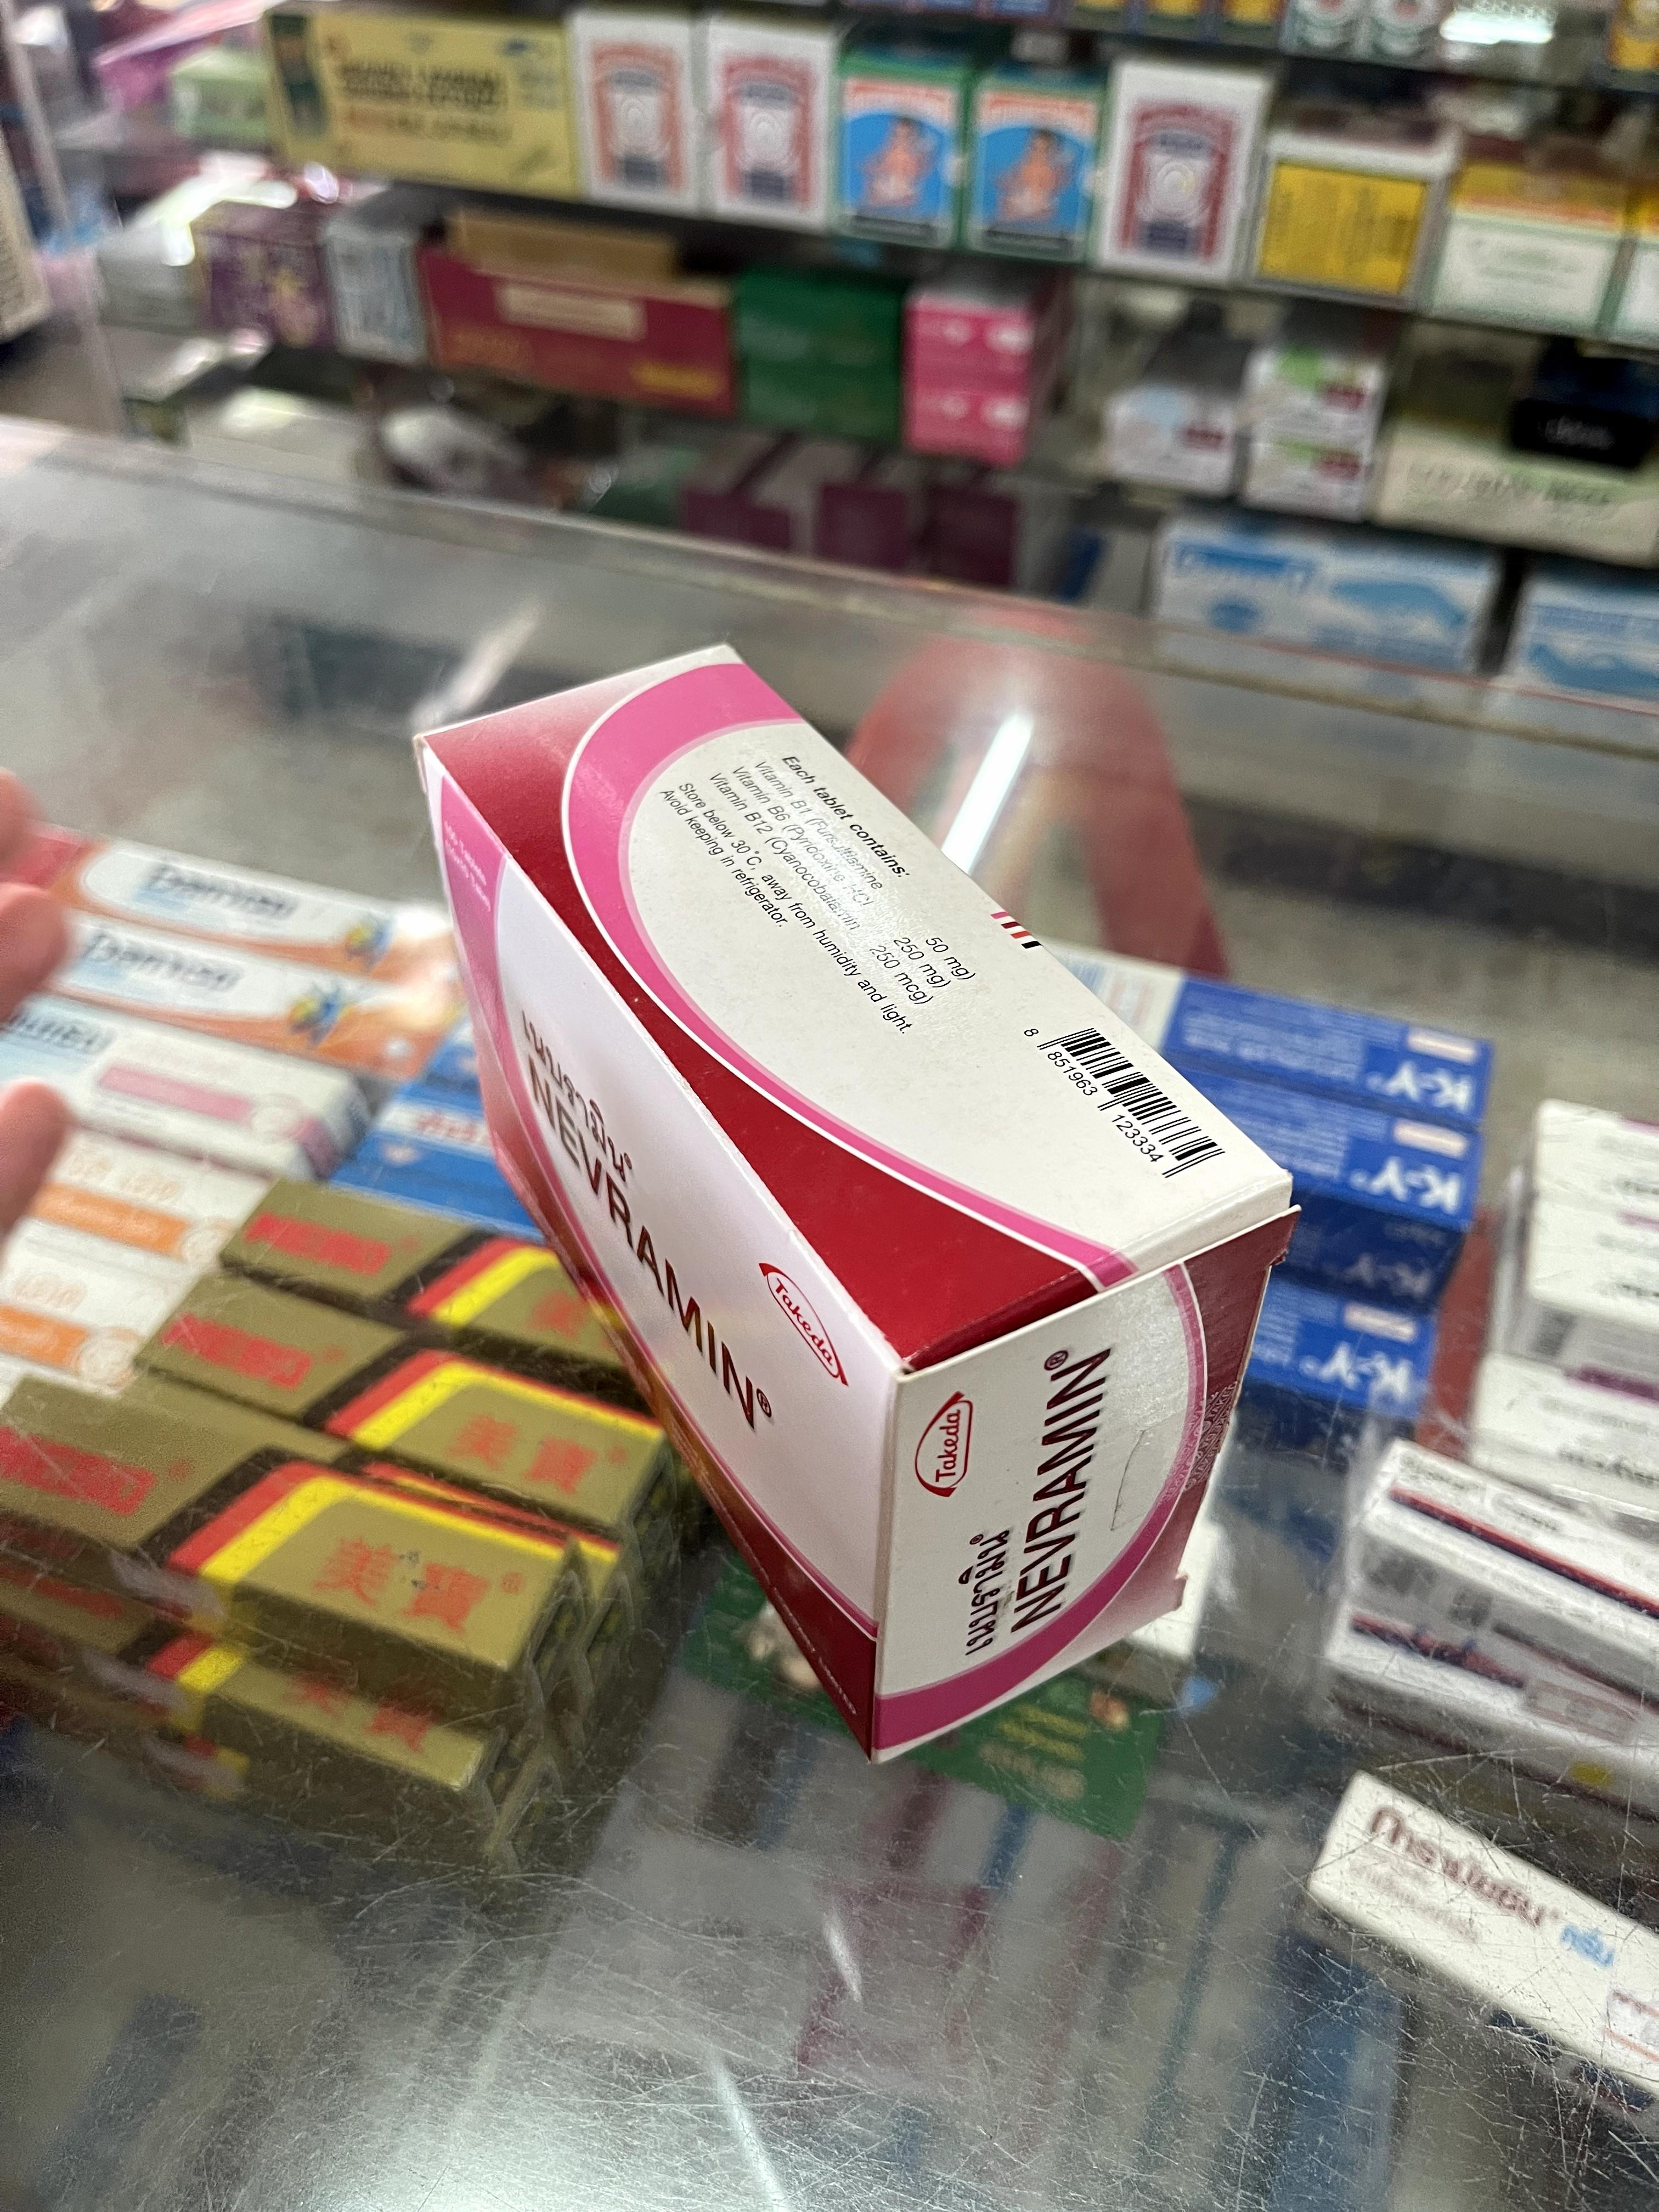Nevramin: (416, 636, 1290, 1766)
